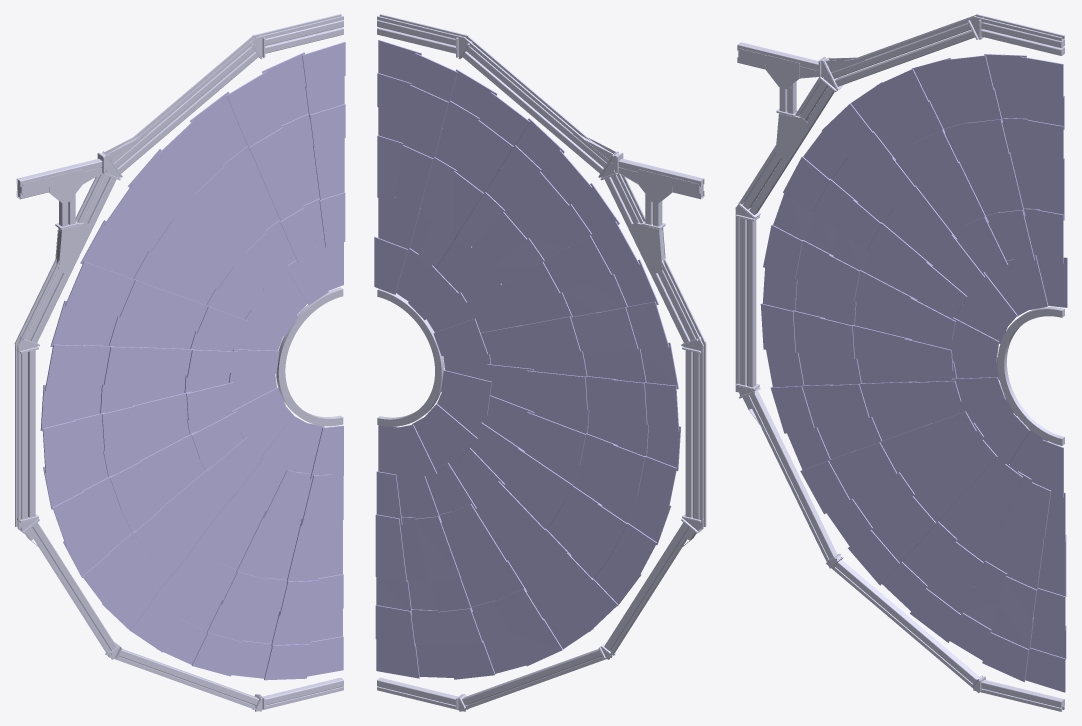
The model's file is TGC3-SideA-cut2.glb.
The picture shows the model from 3 angles, left to right: view 1: azimuth 30°, elevation 25°; view 2: azimuth 150°, elevation 25°; view 3: azimuth 330°, elevation 25°; orthographic projection.
Visible parts, largest first — view 1: null; view 2: null; view 3: null.
Part boxes in pixels (x1,y1,x2,y2): null: [14, 14, 345, 711]; null: [374, 14, 706, 711]; null: [735, 14, 1067, 711].
Size of the model in its own units: 13.07 by 25.65 by 0.4083.
